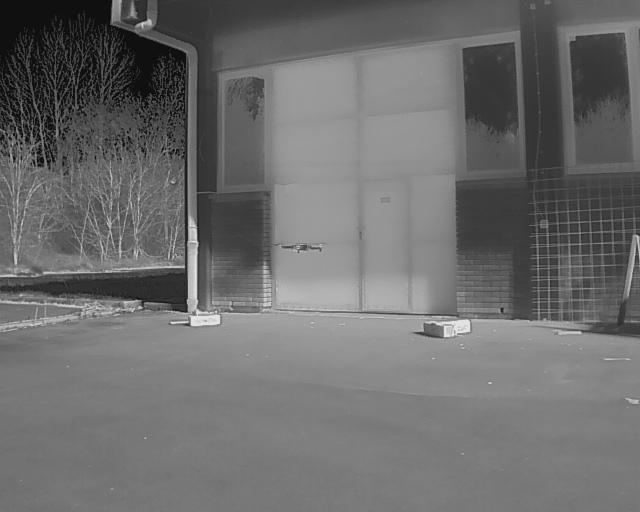drone: (264, 237, 326, 263)
